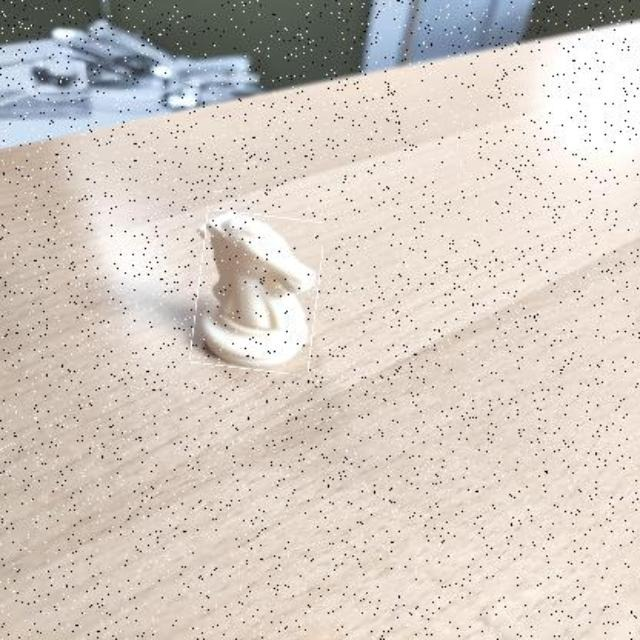white-knight: (195, 212, 321, 372)
